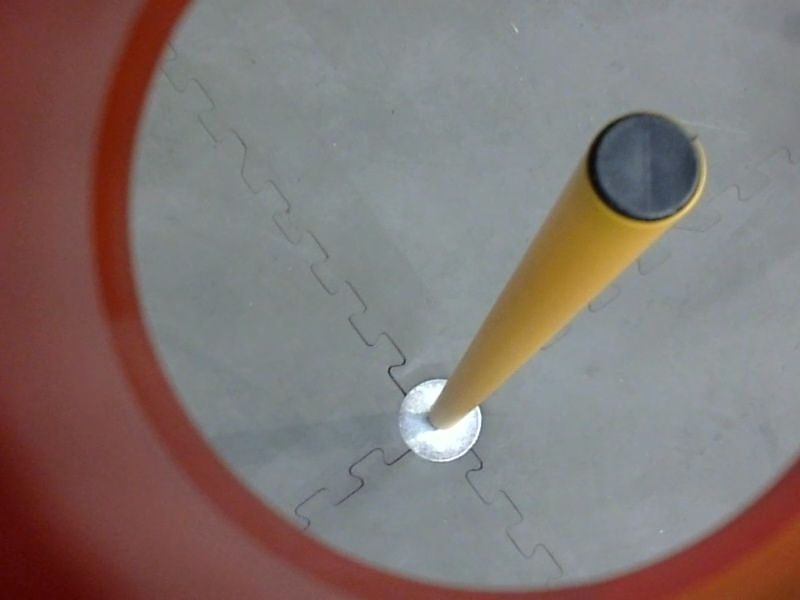tip: (570, 98, 715, 237)
